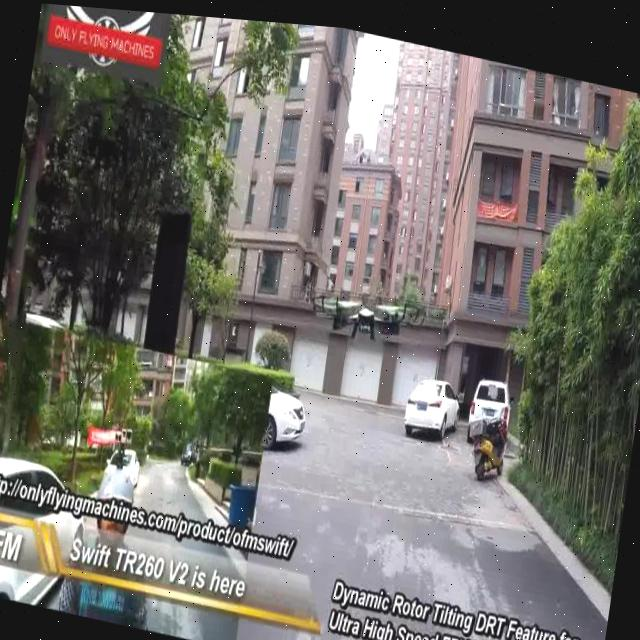drone: (308, 260, 428, 353)
